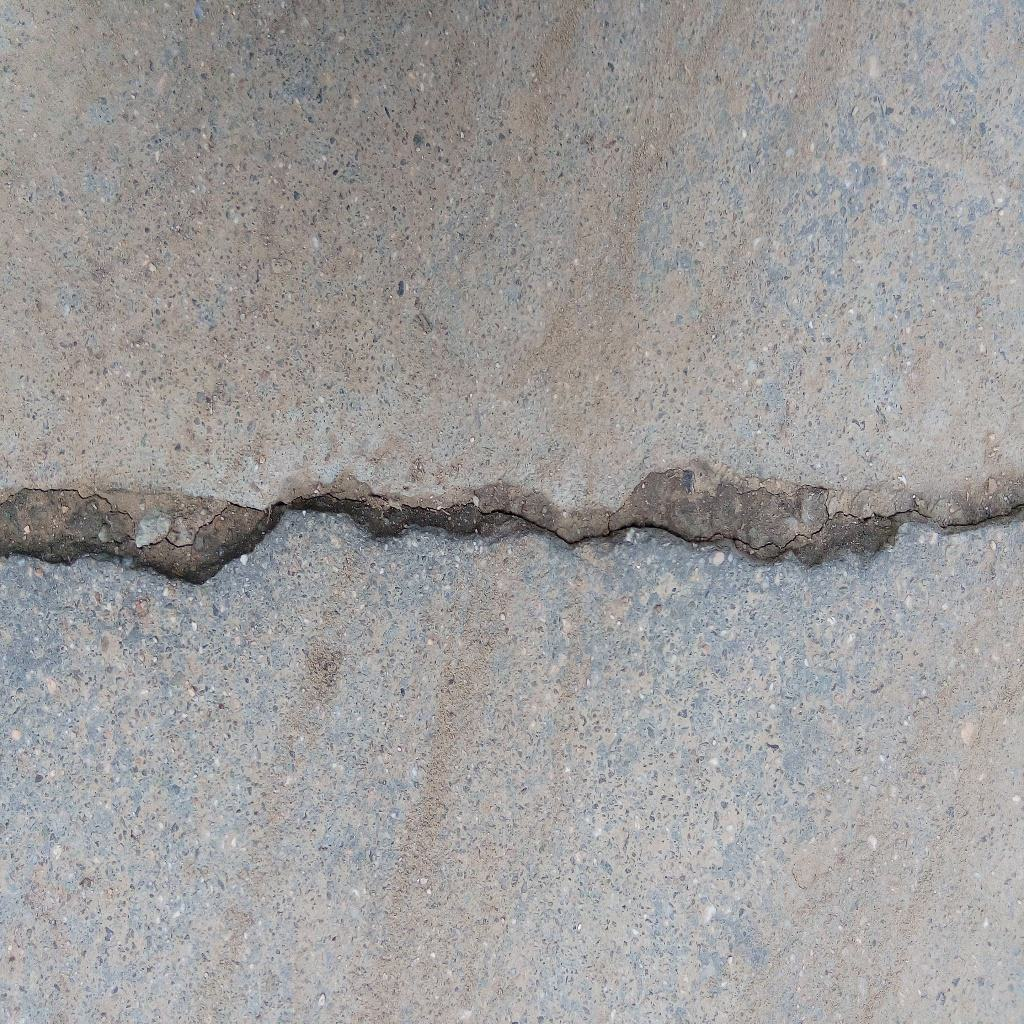Crack: (1, 455, 1024, 588)
